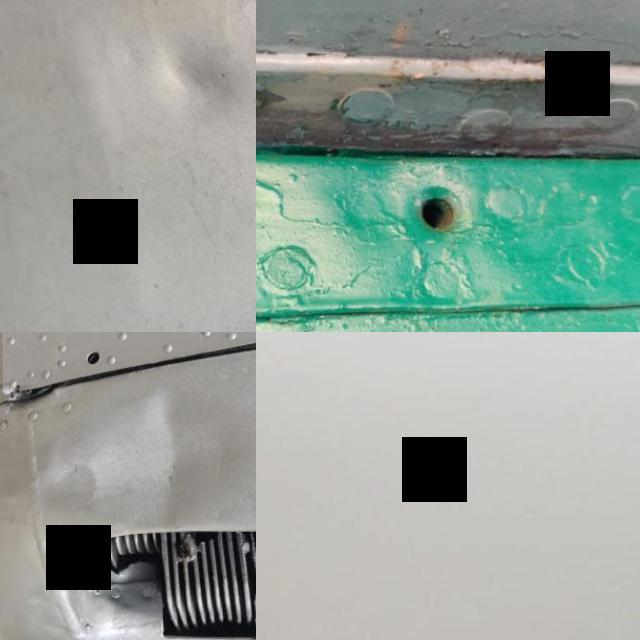Dent: (33, 374, 256, 540), (131, 19, 256, 148)
Missing_Fastener: (394, 168, 489, 263), (70, 332, 113, 374)
